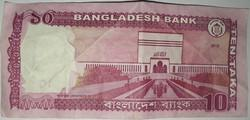10 taka: (4, 3, 249, 117)
